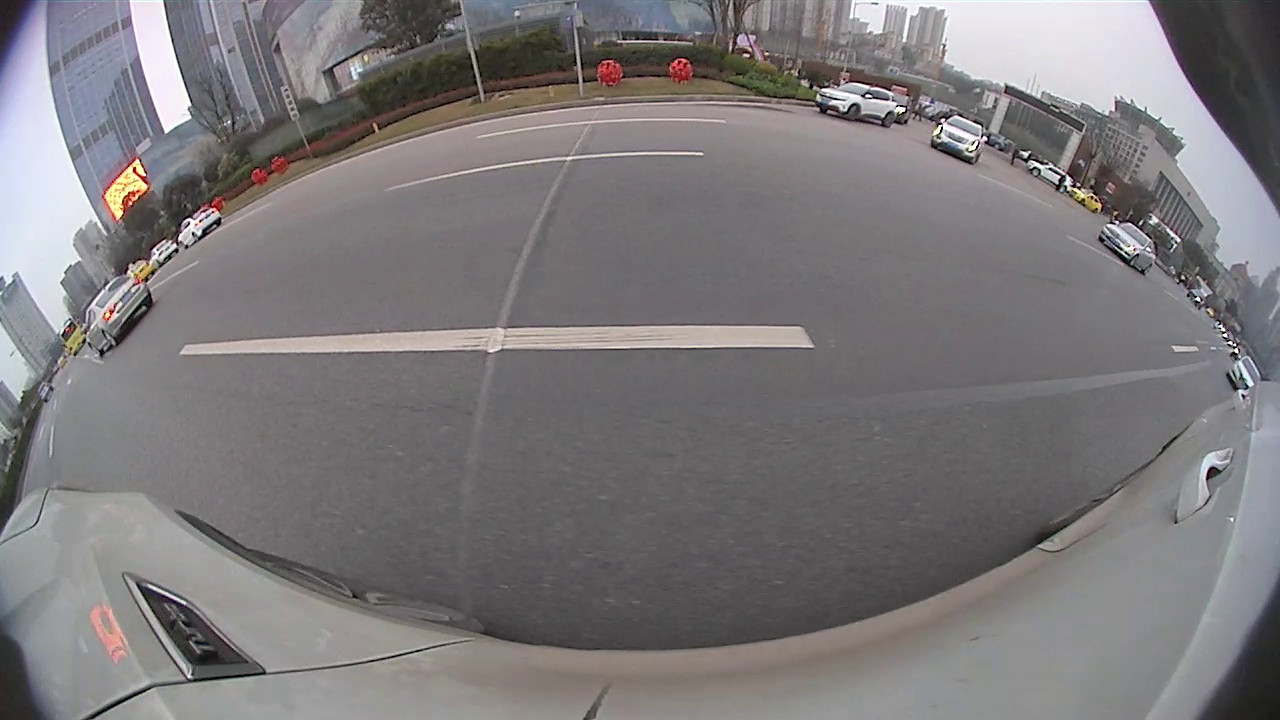car: (84, 271, 149, 360), (813, 82, 897, 130), (1098, 220, 1157, 275), (928, 113, 986, 164), (176, 203, 226, 253), (1227, 355, 1261, 393)
front: (844, 103, 861, 122), (89, 341, 105, 359), (818, 104, 829, 115)
rear: (879, 110, 896, 128), (103, 329, 119, 347), (142, 293, 154, 310)
